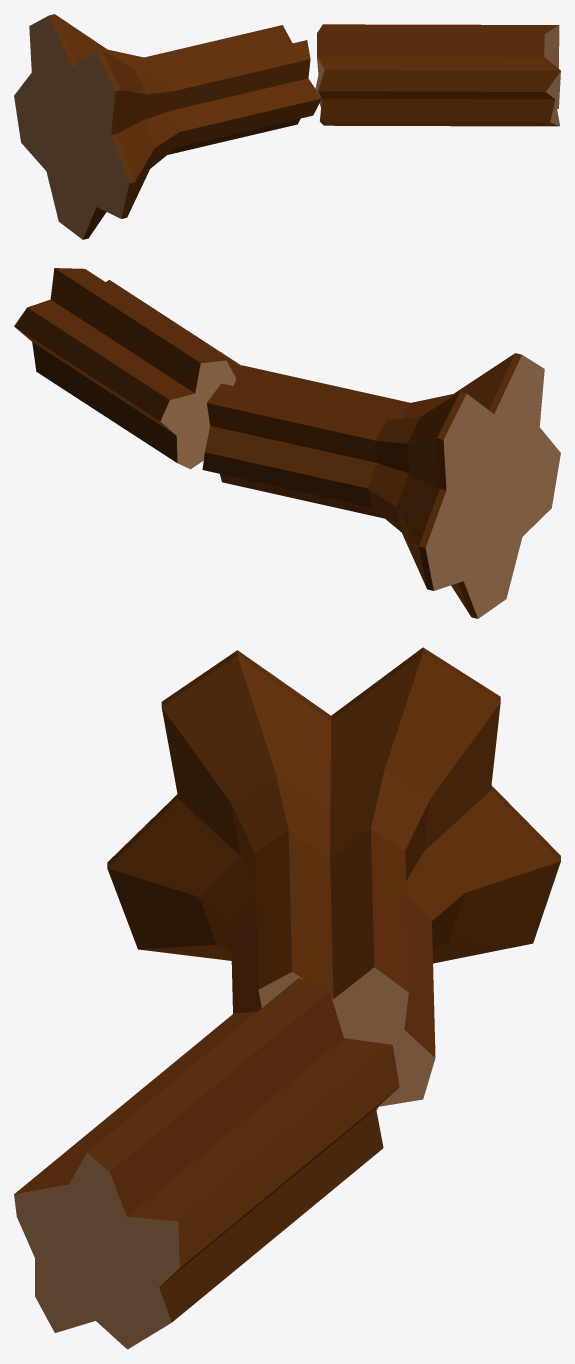
File: Fallen Tree Dammaged.fbx
3 renders of one model, top to bottom at view 1: azimuth 30°, elevation 25°; view 2: azimuth 150°, elevation 25°; view 3: azimuth 270°, elevation 25°, orthographic. The views are drawn at different scales.
Parts seen in each view (by area): view 1: Fallen_Tree_Dammaged; view 2: Fallen_Tree_Dammaged; view 3: Fallen_Tree_Dammaged.
Boxes of the visible parts, x1,y1,x2,y2 form: Fallen_Tree_Dammaged: (14, 14, 560, 239); Fallen_Tree_Dammaged: (14, 268, 560, 618); Fallen_Tree_Dammaged: (14, 647, 560, 1349).
Size of the model in its own units: 4.33 by 1.85 by 2.33.
